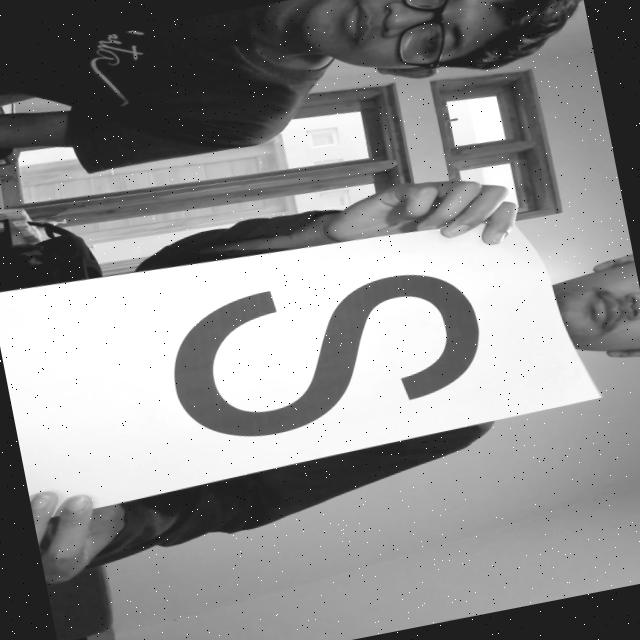s: (153, 238, 506, 464)
